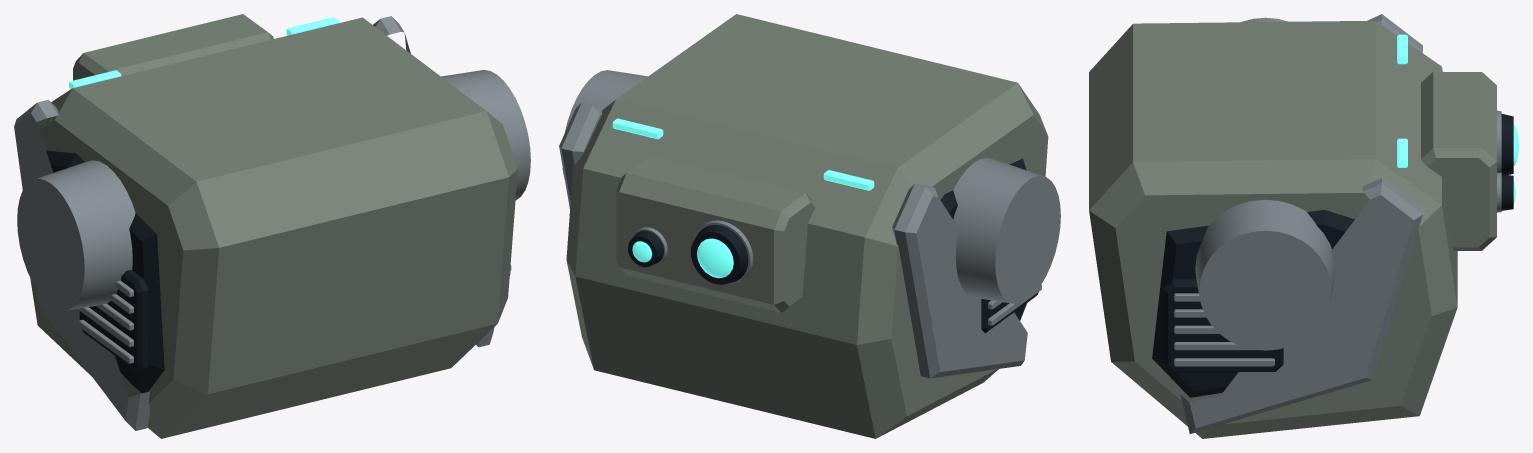
Rendered from dragonfly_head.glb.
The picture shows the model from 3 angles, left to right: view 1: azimuth 30°, elevation 25°; view 2: azimuth 150°, elevation 25°; view 3: azimuth 270°, elevation 25°; orthographic projection. The views are drawn at different scales.
Parts seen in each view (by area): view 1: dragonfly_head; view 2: dragonfly_head; view 3: dragonfly_head.
Part boxes in pixels (left/top/right/bottom): dragonfly_head: left=14, top=14, right=530, bottom=438; dragonfly_head: left=559, top=14, right=1060, bottom=438; dragonfly_head: left=1089, top=14, right=1518, bottom=438.
Bounding box in the file's own units: 1.6 × 0.98 × 1.36.
